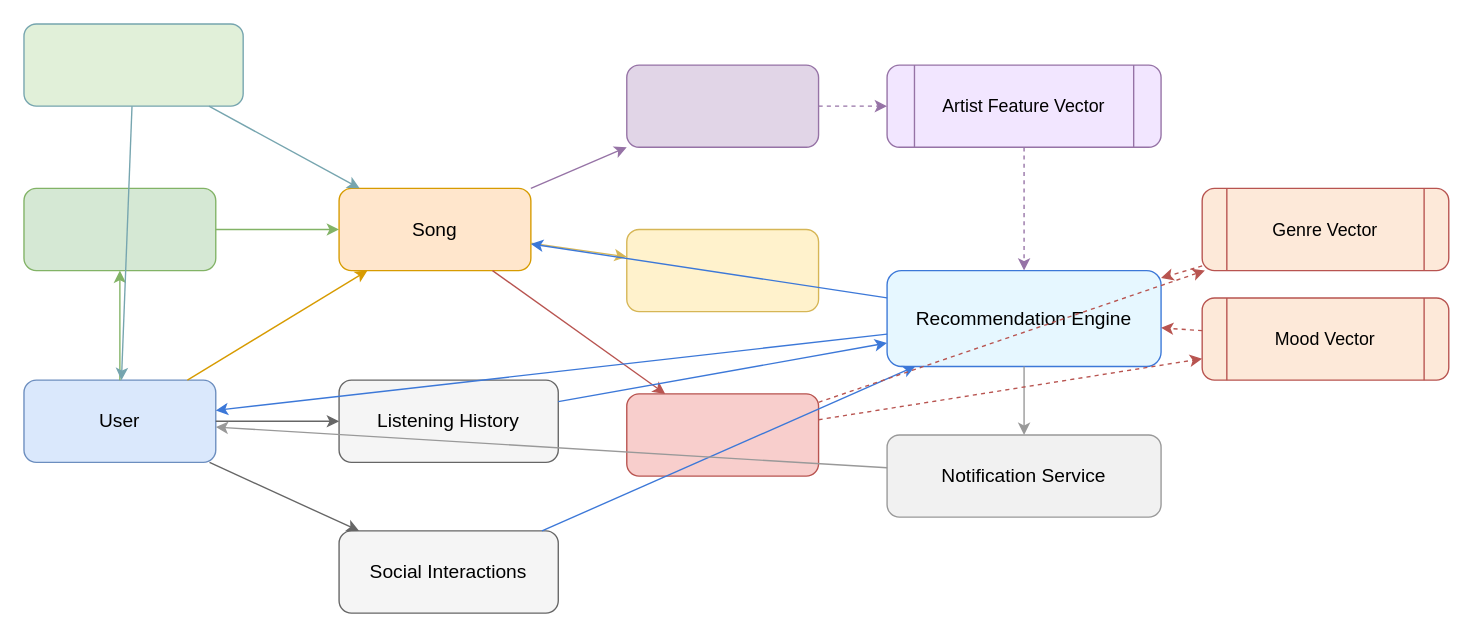
This 1473x637 diagram has some shape labels left out. Each missing label, with the centre of its shape:
"Album" goes at [722,270].
"Artist" goes at [722,105].
"Genre / Mood" goes at [722,434].
"Music Recognition" goes at [133,64].
"Playlist" goes at [119,229].
